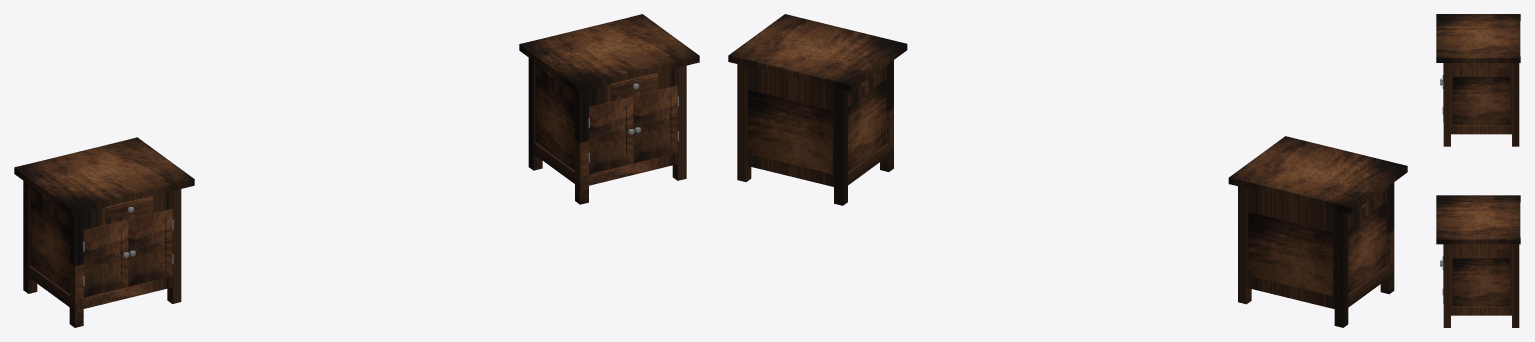
File: buro.obj
3 renders of one model, left to right at view 1: azimuth 30°, elevation 25°; view 2: azimuth 150°, elevation 25°; view 3: azimuth 270°, elevation 25°, orthographic. The views are drawn at different scales.
Visible parts, largest first — view 1: buro_polySurface11, buro_polySurface10; view 2: buro_polySurface11, buro_polySurface10; view 3: buro_polySurface10, buro_polySurface11.
Boxes of the visible parts, left/top/right/bottom form: buro_polySurface11: left=14, top=137, right=194, bottom=327; buro_polySurface10: left=519, top=14, right=699, bottom=204; buro_polySurface11: left=1228, top=136, right=1407, bottom=327; buro_polySurface10: left=728, top=14, right=907, bottom=205; buro_polySurface10: left=1436, top=195, right=1520, bottom=327; buro_polySurface11: left=1436, top=14, right=1520, bottom=146.
Bounding box in the file's own units: 3 × 0.5682 × 0.4739.
2 materials, 1 textured.
